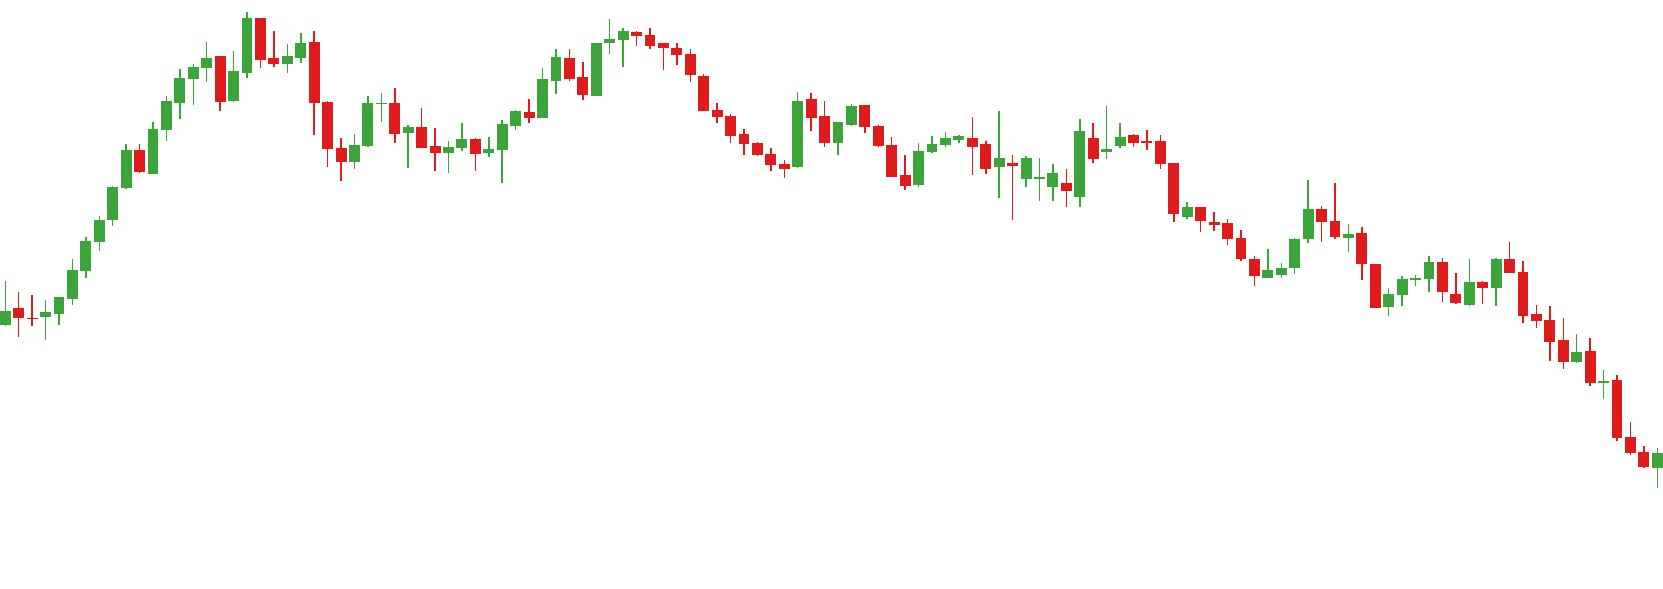sell: (1421, 241, 1517, 293)
